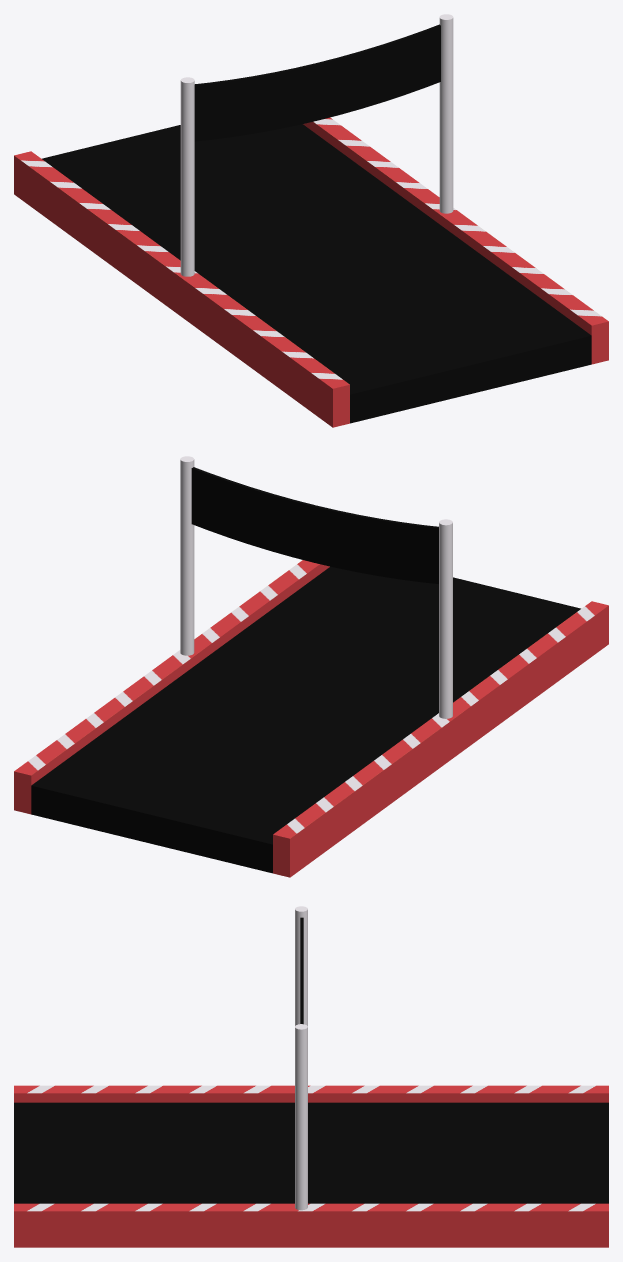
File: Track_-_Starting_line_textured.fbx
3 views of the same model, one above another, from view 1: azimuth 30°, elevation 25°; view 2: azimuth 150°, elevation 25°; view 3: azimuth 270°, elevation 25° (orthographic). The views are drawn at different scales.
Parts seen in each view (by area): view 1: Track - Starting line; view 2: Track - Starting line; view 3: Track - Starting line.
Boxes of the visible parts, bbox=[...] form: Track - Starting line: bbox=[14, 14, 608, 427]; Track - Starting line: bbox=[14, 456, 608, 877]; Track - Starting line: bbox=[14, 906, 608, 1247].
Size of the model in its own units: 50 by 100 by 40.24.
